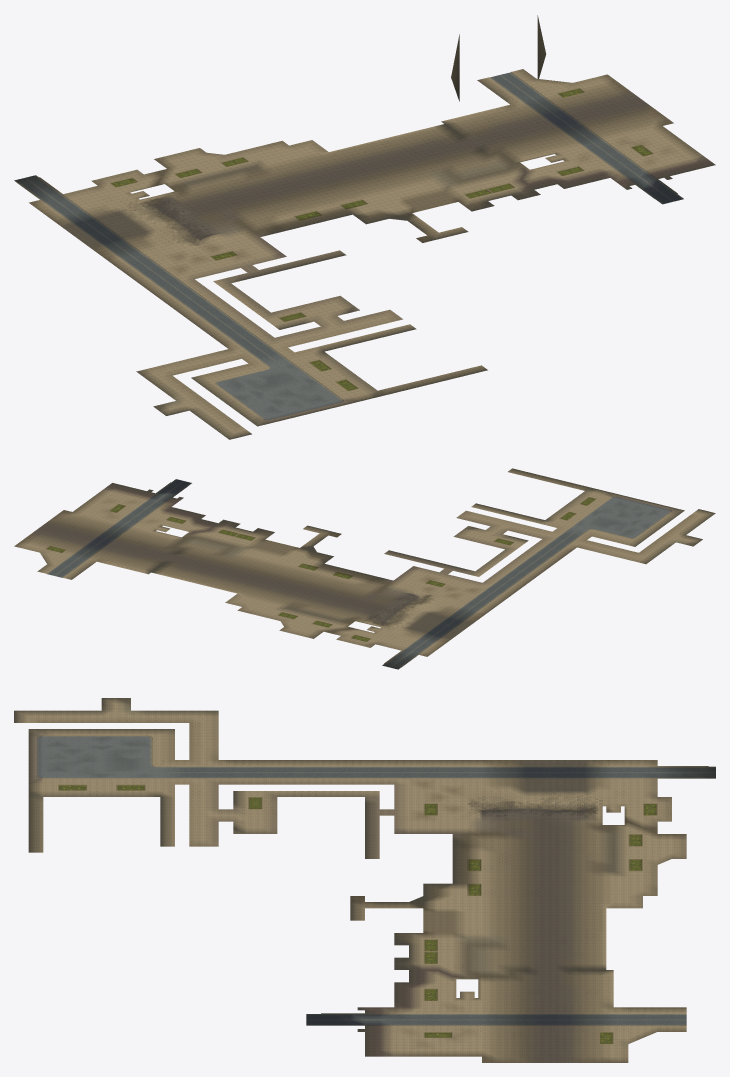
The model's file is M2_Zone4.glb.
The picture shows the model from 3 angles, top to bottom: view 1: azimuth 30°, elevation 25°; view 2: azimuth 150°, elevation 25°; view 3: azimuth 270°, elevation 25°; orthographic projection. The views are drawn at different scales.
Bounding box in the file's own units: 236 × 23 × 192.
Materials: 13 (13 with a texture image).
